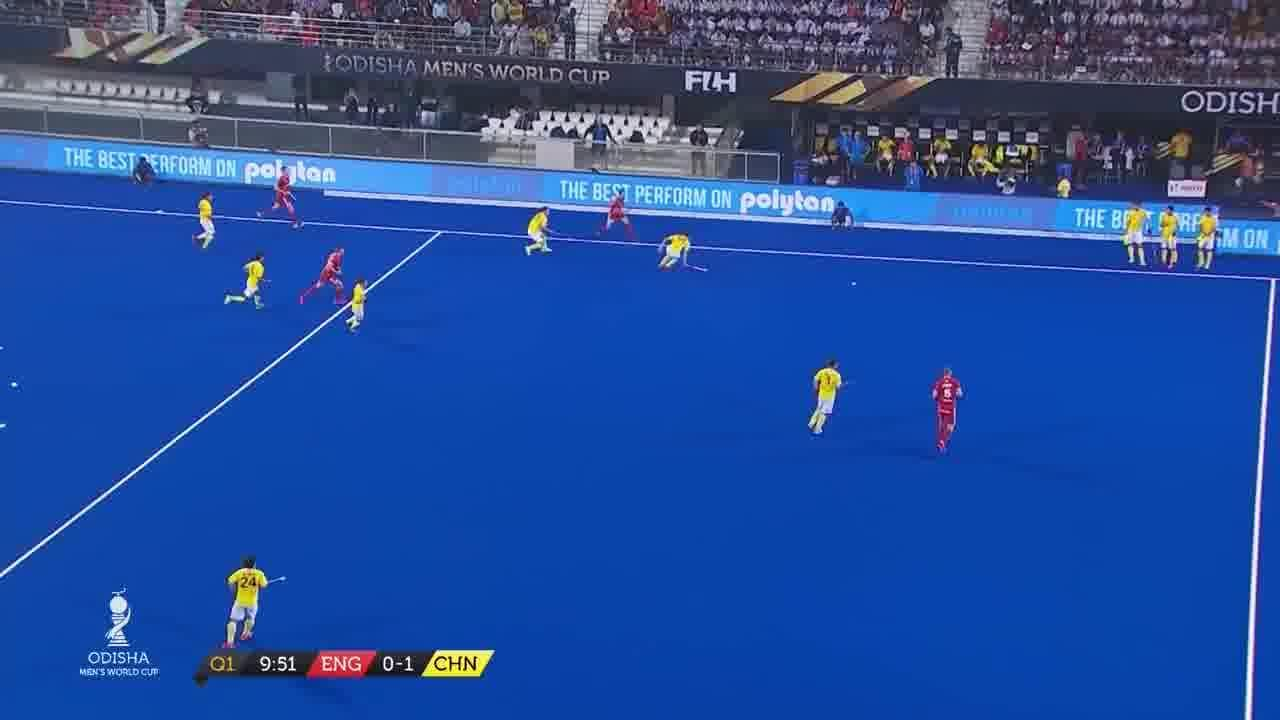ball: (851, 280, 861, 288)
